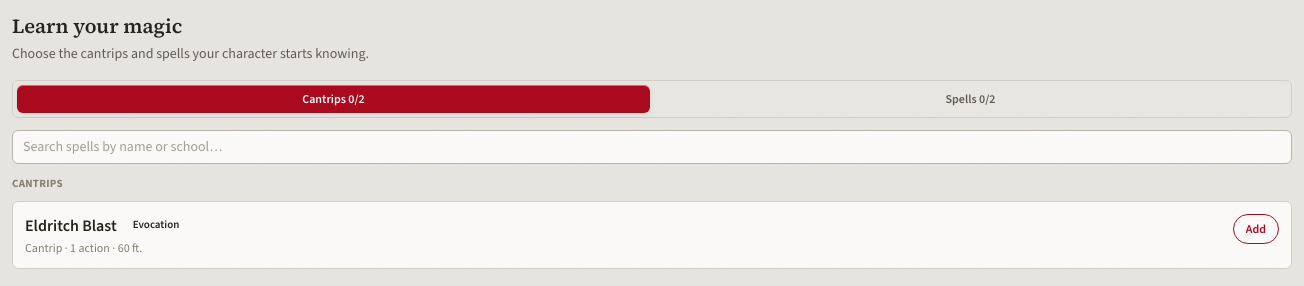
Test: CreationSpellsStep › still shows the ordinary search-miss copy when a populated catalog is searched to zero
Expected: the button with aria-label "Open Eldritch Blast" is shown, x1=25 y1=214 x2=1221 y2=256
In the search field: point(652, 147) x1=12 y1=130 x2=1292 y2=164, type "zzzznomatch"
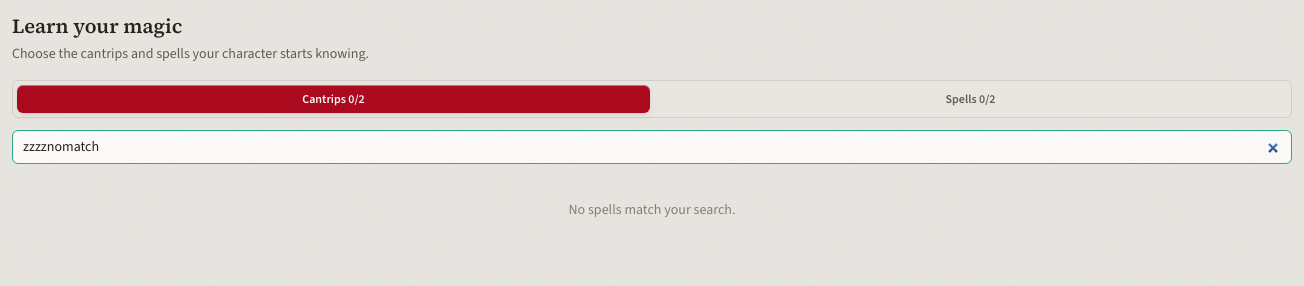
Result: the text "No spells match your search." is shown at x1=569 y1=200 x2=736 y2=219
